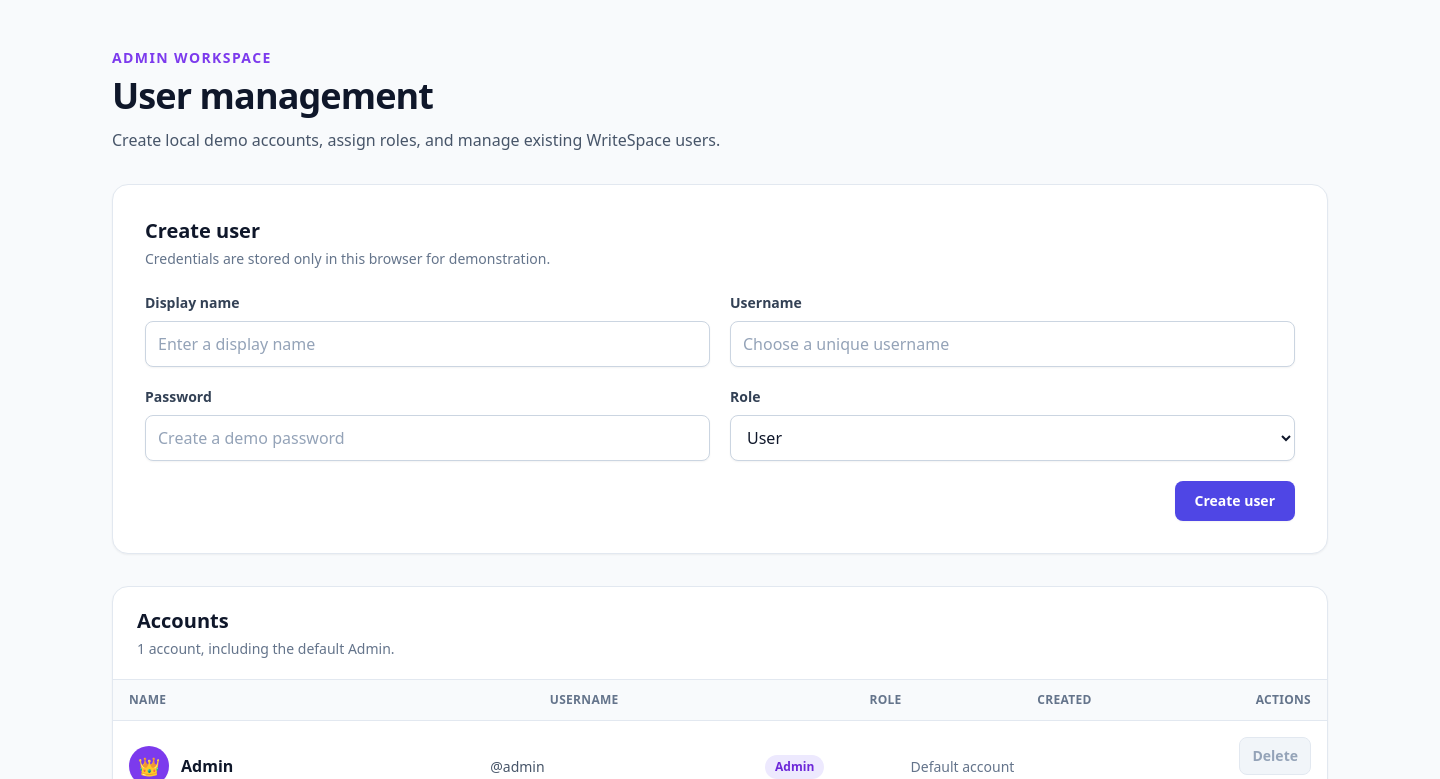
UserManagement account creation › validates all required text fields before creating an account
Click the button "Create user": click(1235, 501) [1174, 481, 1295, 521]
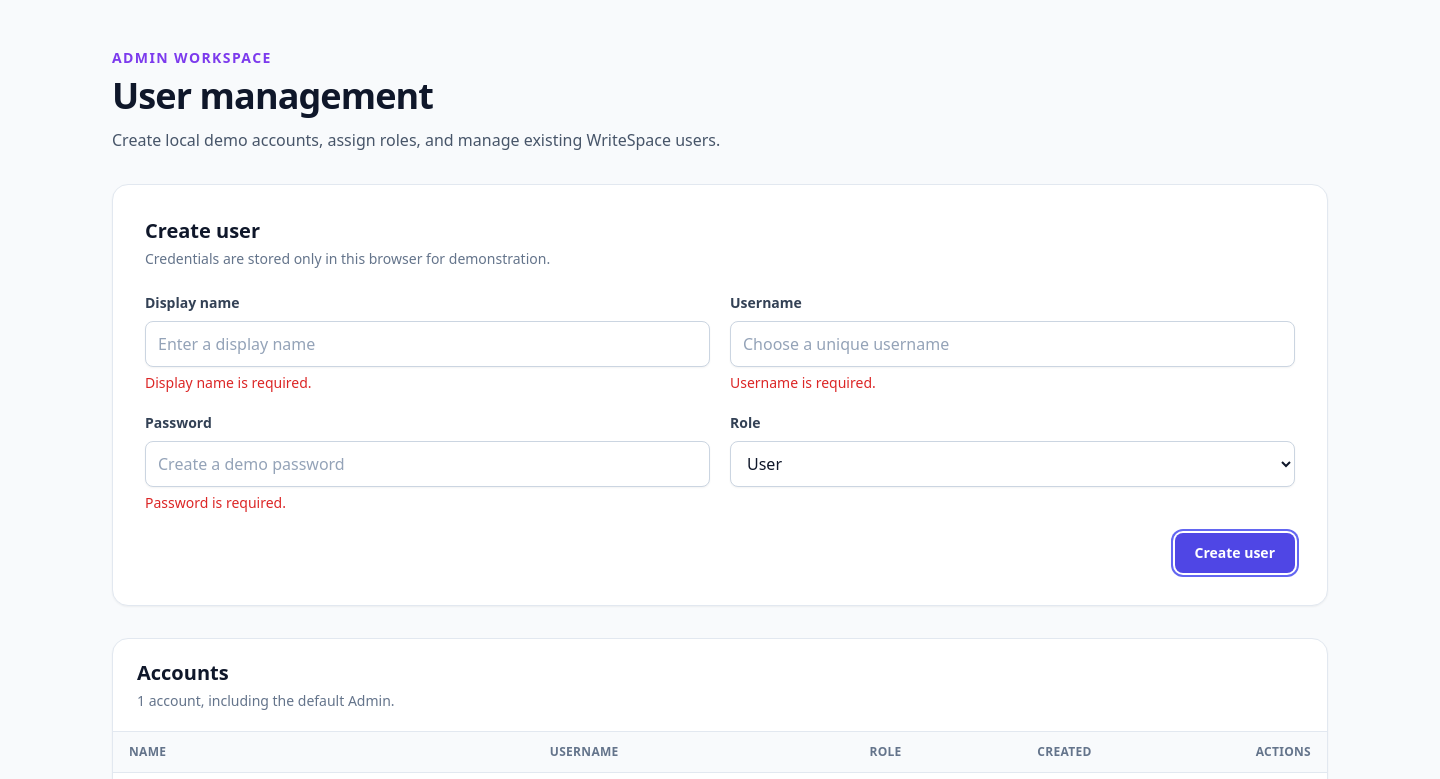
Expected: the text "Display name is required." is shown, [145, 373, 312, 392]
Expected: the text "Username is required." is shown, [730, 373, 876, 392]
Expected: the text "Password is required." is shown, [145, 493, 286, 512]
